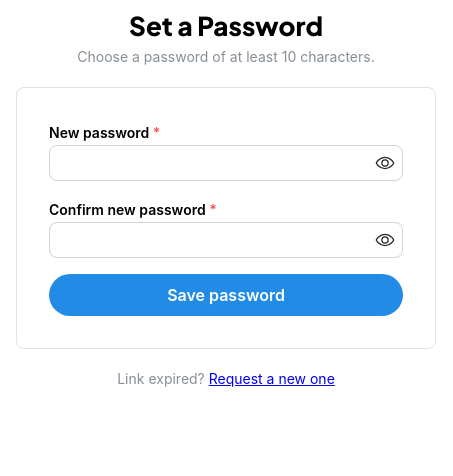
Test: ResetPasswordPage › explains an expired or spent token and offers a new link
In the password field labelled "New password *": (226, 163) [50,146,402,180], type "a-long-enough-password"
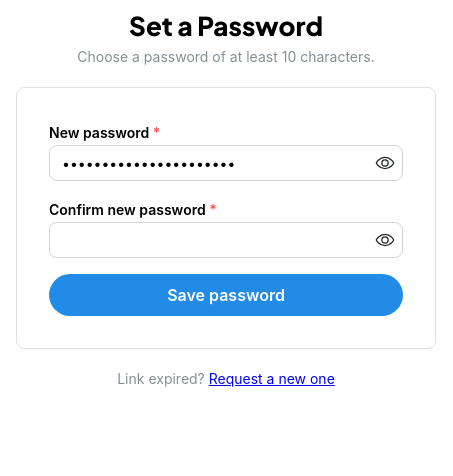
In the password field labelled "Confirm new password *": (226, 240) [50,223,402,257], type "a-long-enough-password"
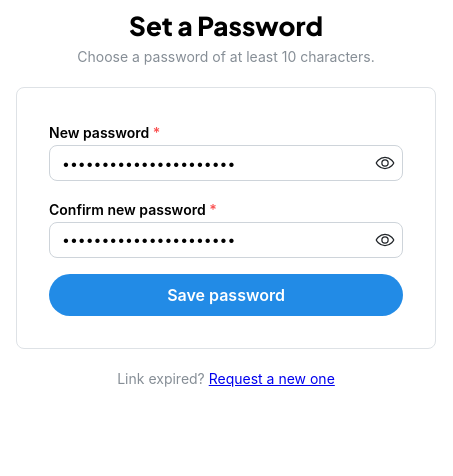
Submit the form "New password * Confirm new password * Save password", box [49,120,403,316]
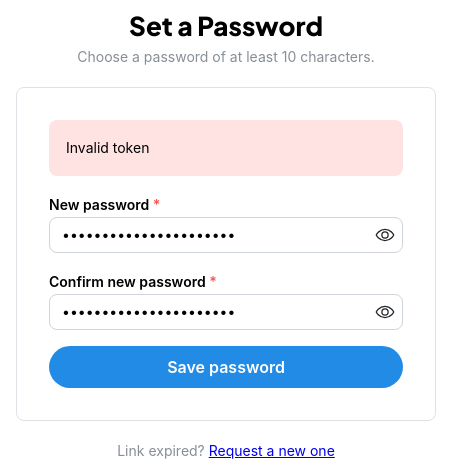
Expected: the link "Request a new one" is shown, [209,442,335,459]
Now the text "Invalid token" is shown, box [66,139,149,156]
